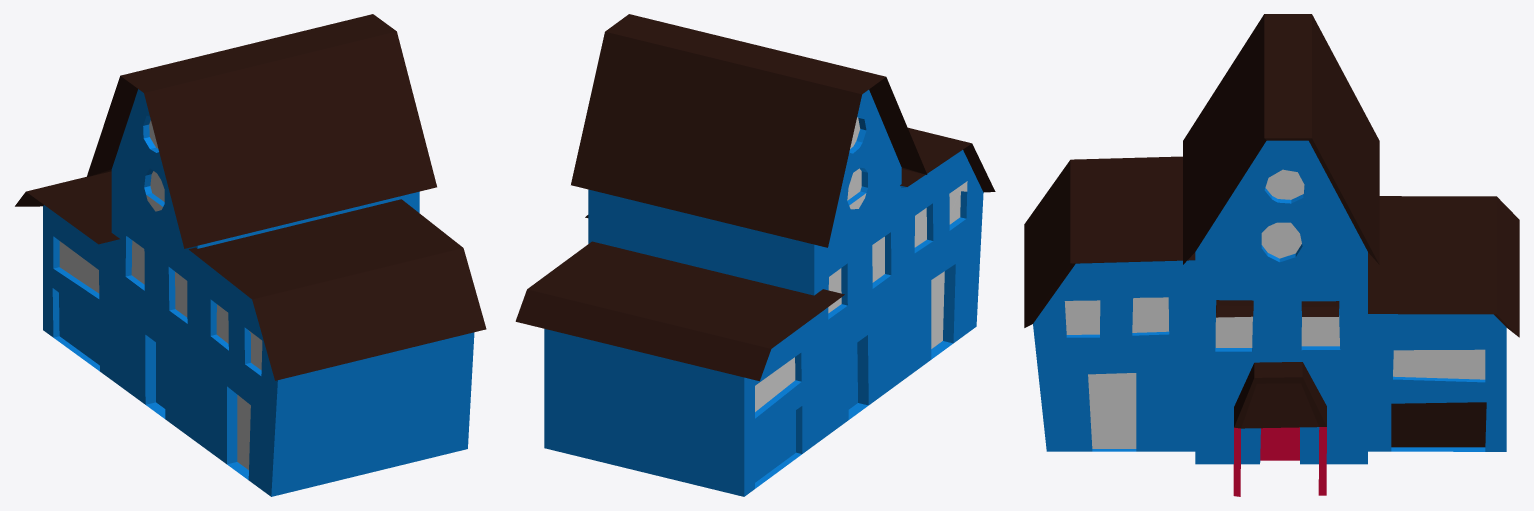
Rendered from Building5.fbx.
3 renders of one model, left to right at view 1: azimuth 30°, elevation 25°; view 2: azimuth 150°, elevation 25°; view 3: azimuth 270°, elevation 25°, orthographic.
Visible parts, largest first — view 1: Plane; view 2: Plane; view 3: Plane.
Part boxes in pixels (x1=…): Plane: x1=15, y1=14, x2=486, y2=496; Plane: x1=515, y1=14, x2=995, y2=496; Plane: x1=1024, y1=14, x2=1519, y2=496.
Size of the model in its own units: 110 by 125 by 164.
